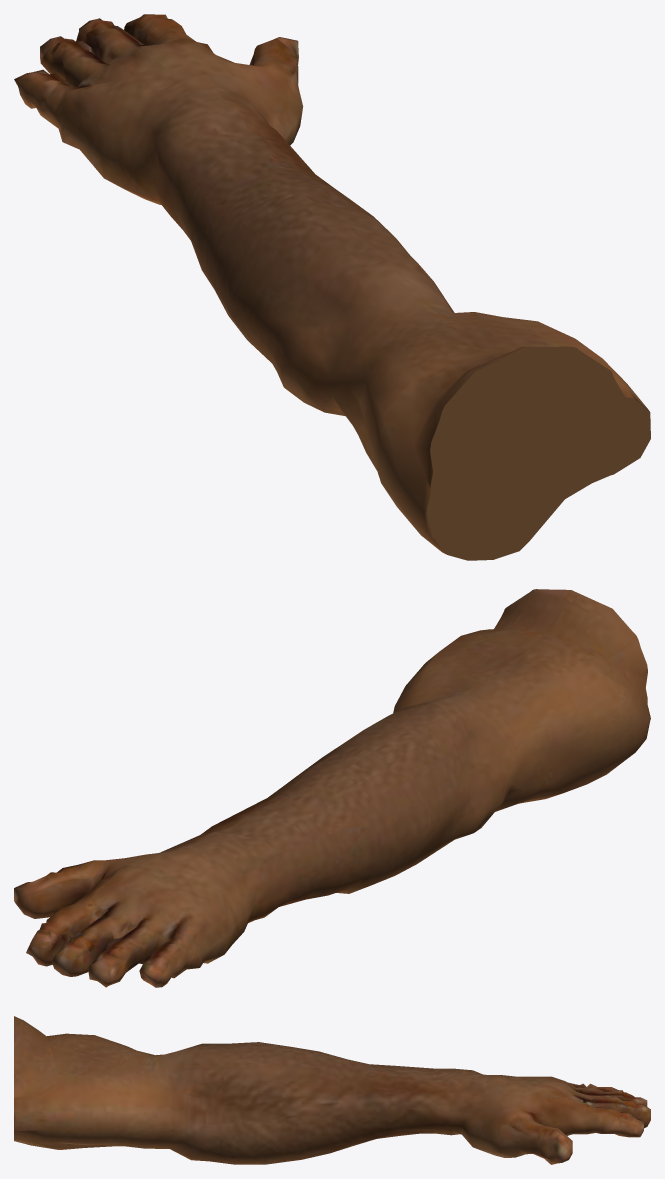
File: pithecanthropus-tangan.glb
3 views of the same model, one above another, from view 1: azimuth 30°, elevation 25°; view 2: azimuth 150°, elevation 25°; view 3: azimuth 270°, elevation 25° (orthographic). The views are drawn at different scales.
Parts seen in each view (by area): view 1: Tangan; view 2: Tangan; view 3: Tangan.
Part boxes in pixels (x1,y1,x2,y2): Tangan: [14, 14, 650, 560]; Tangan: [14, 589, 650, 987]; Tangan: [14, 1016, 650, 1164].
Size of the model in its own units: 0.1289 by 0.0763 by 0.349.
1 material, 1 textured.
